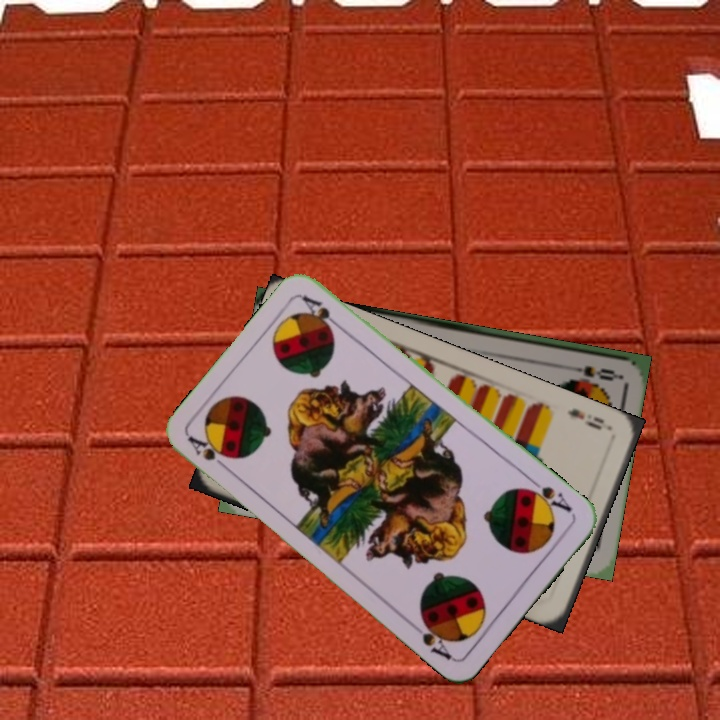E9: (564, 404, 614, 433)
SA: (520, 474, 574, 516), (184, 432, 234, 475)
SO: (563, 361, 622, 384)
